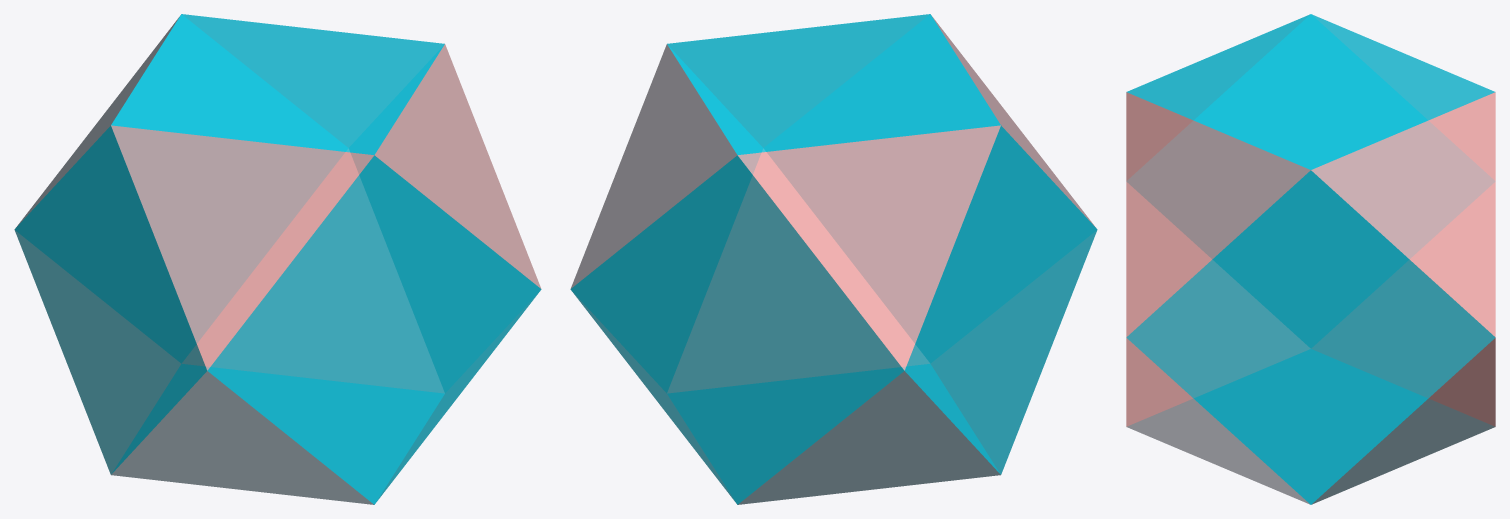
Rendered from Cuboctahedron.obj.
3 views of the same model, side by side, from view 1: azimuth 30°, elevation 25°; view 2: azimuth 150°, elevation 25°; view 3: azimuth 270°, elevation 25° (orthographic). The views are drawn at different scales.
Size of the model in its own units: 1.41 by 1.41 by 1.41.
